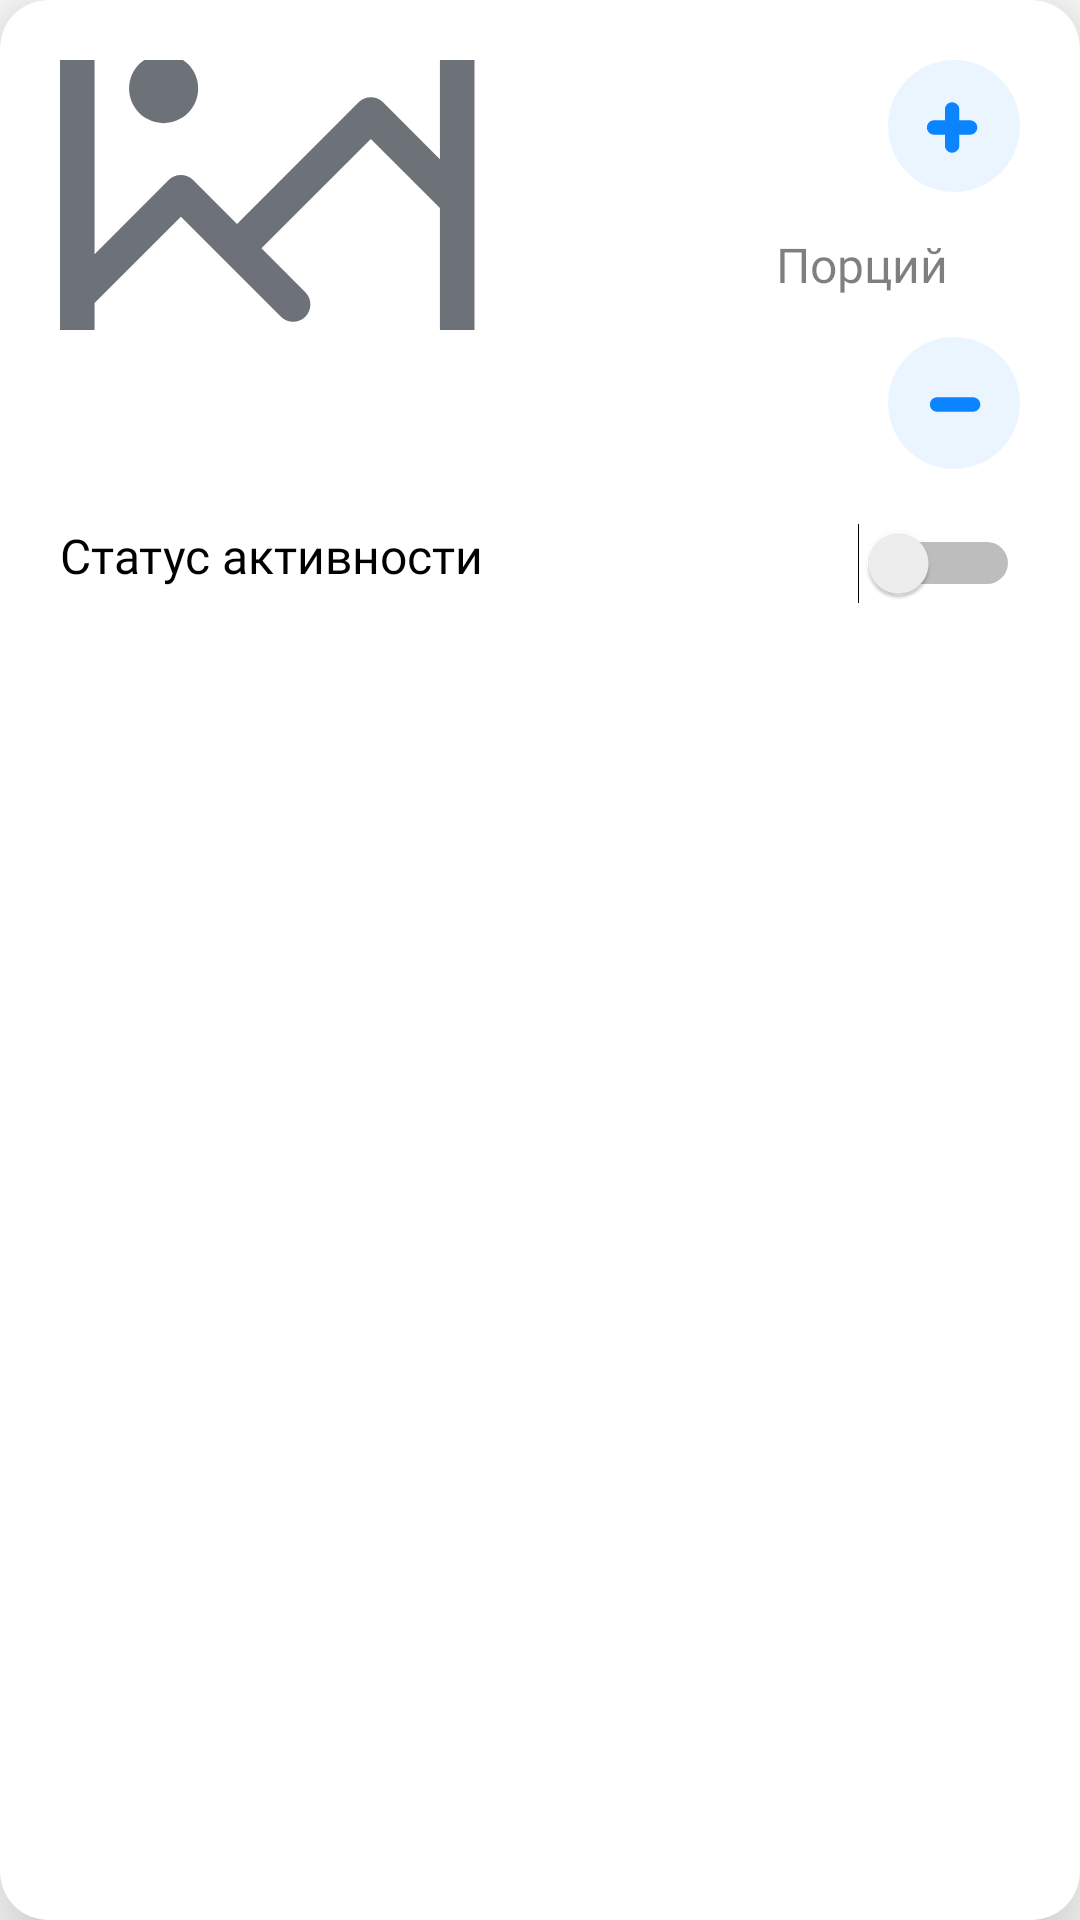

Icons on this 1080px×1920px Android screen, each with its box as (x1, y1, x2, y2):
minus: (930, 397, 981, 412)
plus: (888, 60, 1020, 192)
